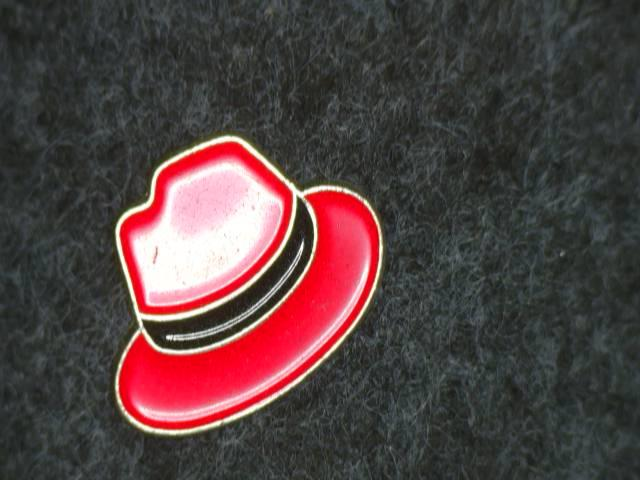Red-Hat: (76, 117, 407, 451)
